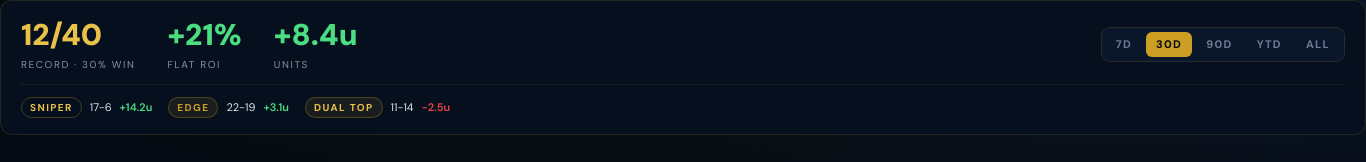
Test: TrackRecordHero › swaps the displayed numbers when a different timeframe is selected
Check: the text with test id "hero-record" reads "12/40", box [21,15,102,54]
Click the tab with test id "hero-tf-7D" at (1124, 45), box [1106,32,1142,57]
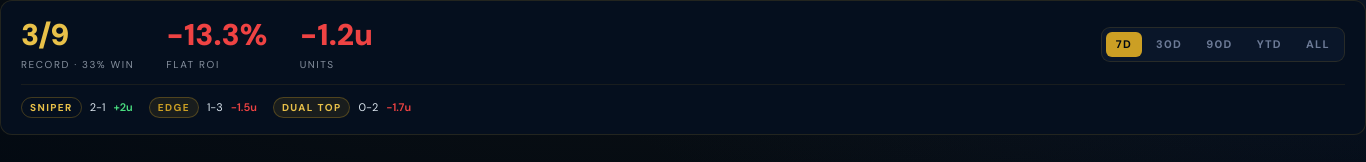
Check: the text with test id "hero-record" reads "3/9", box [21,15,69,54]
Check: the text with test id "hero-roi" reads "-13.3%", box [166,15,268,54]
Check: the text with test id "hero-units" reads "-1.2u", box [300,15,373,54]
